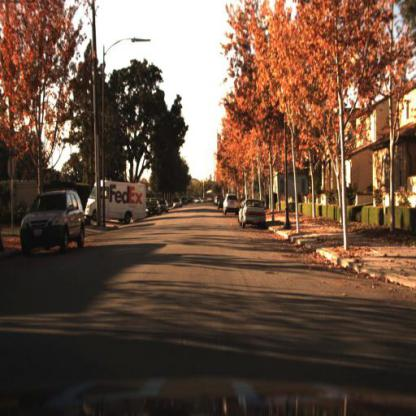car: (17, 188, 90, 262), (85, 181, 150, 224), (237, 196, 269, 234), (146, 195, 163, 222), (223, 193, 241, 218), (160, 197, 171, 215)
truck: (77, 178, 154, 226)
